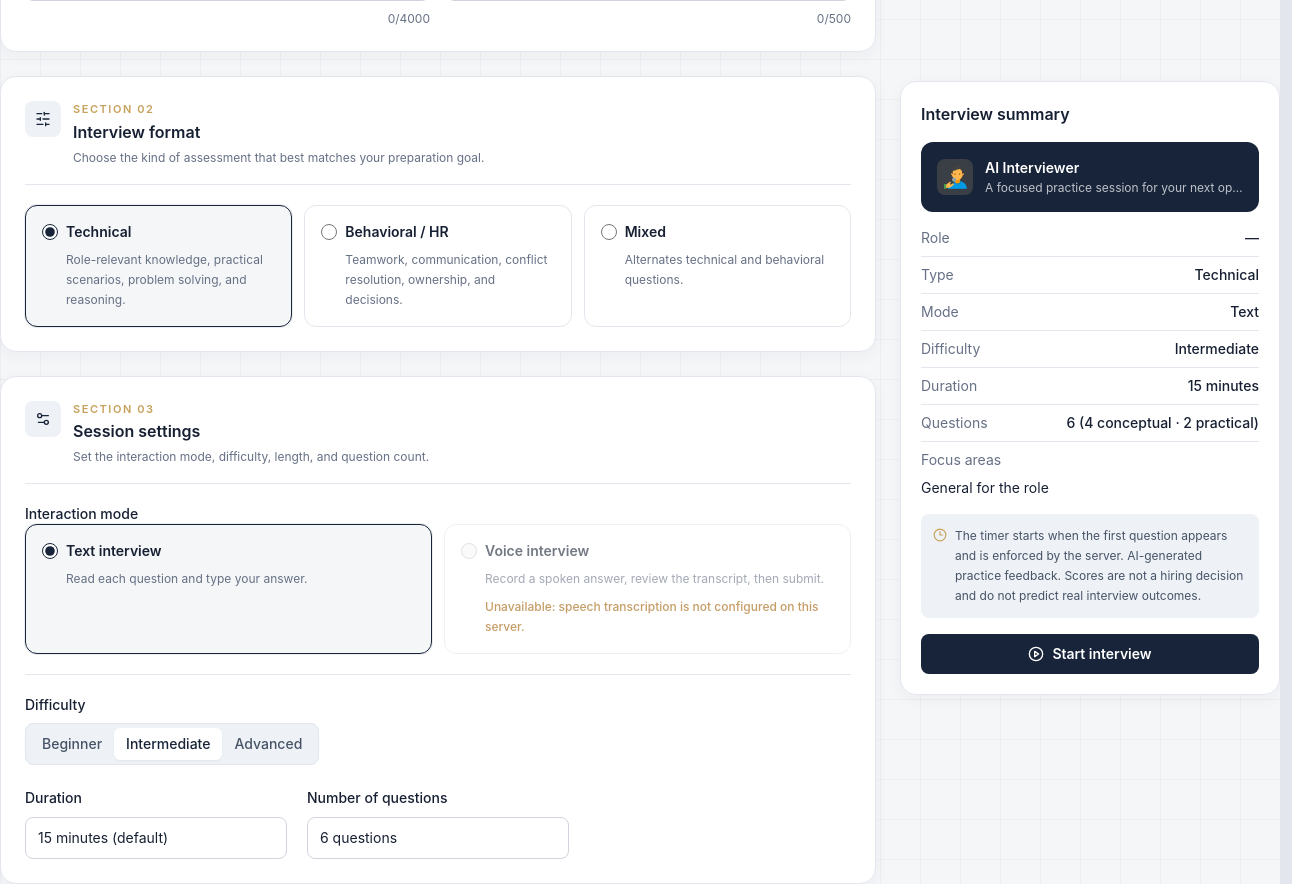
question count follows the selected duration
(page scrolled)
Select "10 minutes" in the dropdown labelled "Duration" at (156, 838), box [25, 817, 287, 859]
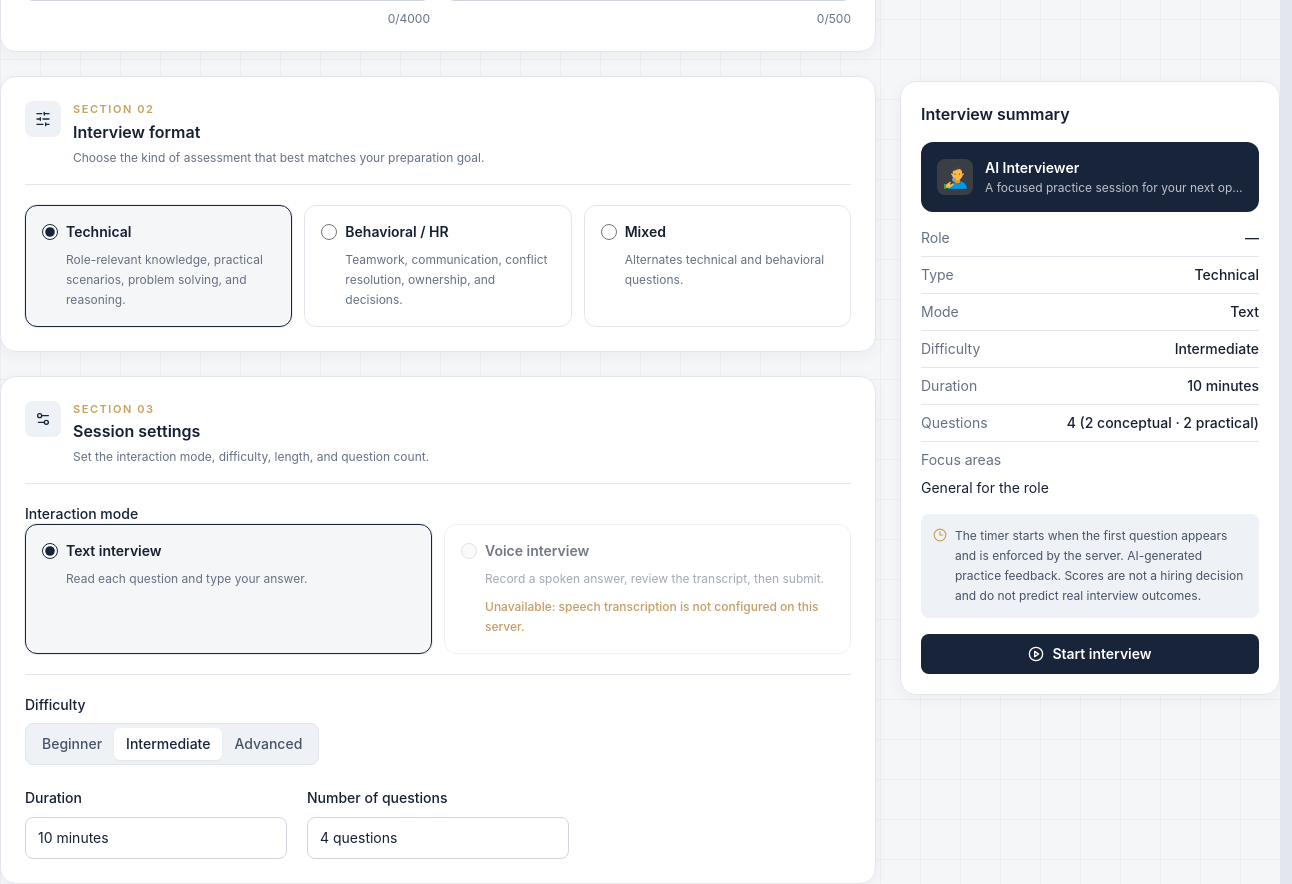
Now the dropdown labelled "Number of questions" shows "4 questions"
Select "3 questions" in the dropdown labelled "Number of questions" at (438, 838), box [307, 817, 569, 859]
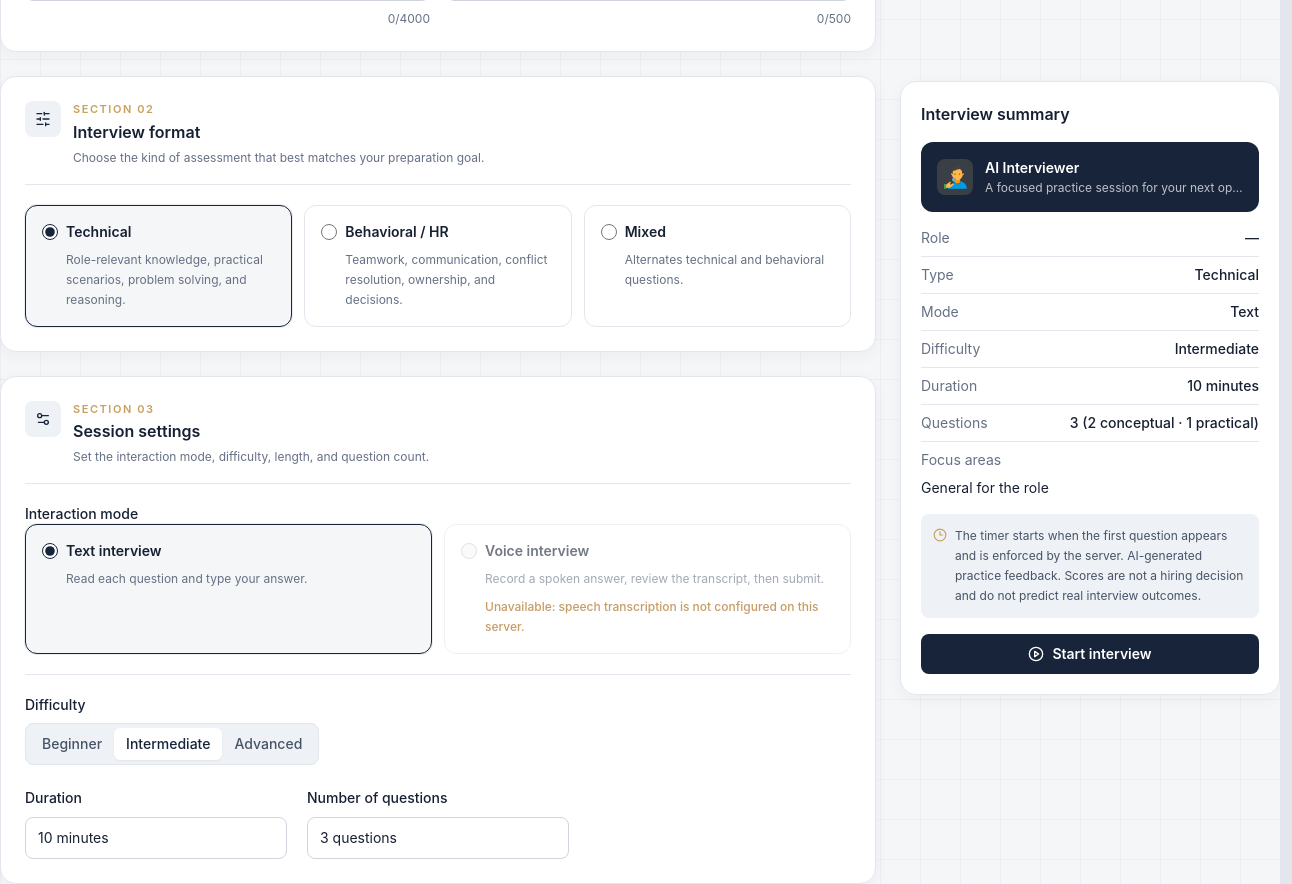
Now the text "3 (2 conceptual · 1 practical)" is shown, box [1070, 412, 1259, 432]
